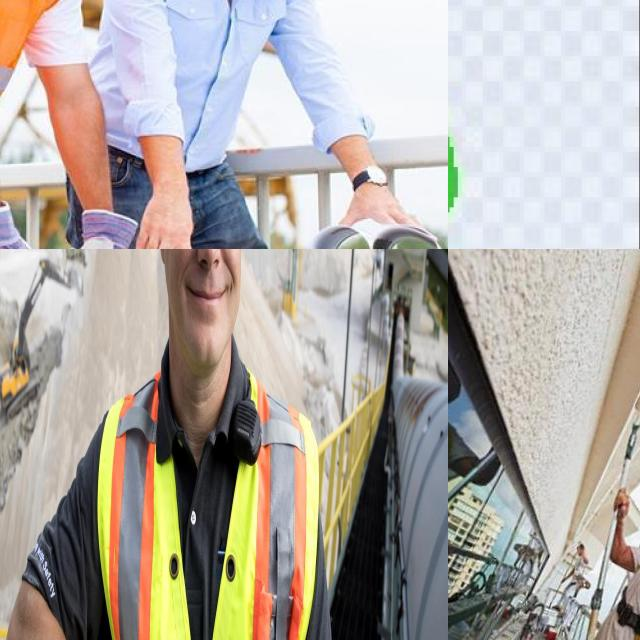Ear-protection: (448, 0, 589, 249)
Harness: (618, 594, 640, 640)
face_nomask: (159, 249, 254, 359)
hand_glove: (56, 200, 136, 249), (0, 203, 46, 249)
hand_noglove: (320, 164, 436, 242), (122, 173, 205, 249)
person: (0, 249, 346, 639), (96, 0, 406, 249), (0, 0, 104, 249)
vest: (98, 361, 315, 640)
